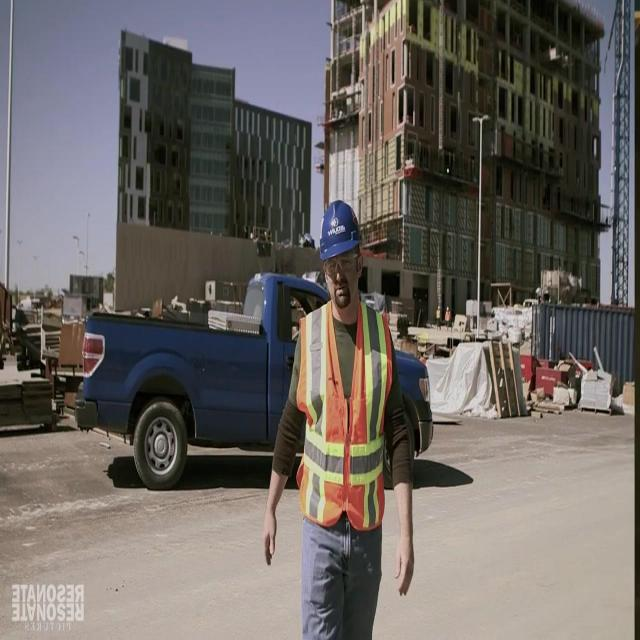Reflective-Jacket: (282, 291, 404, 537)
Safety-Helmet: (310, 190, 370, 272)
